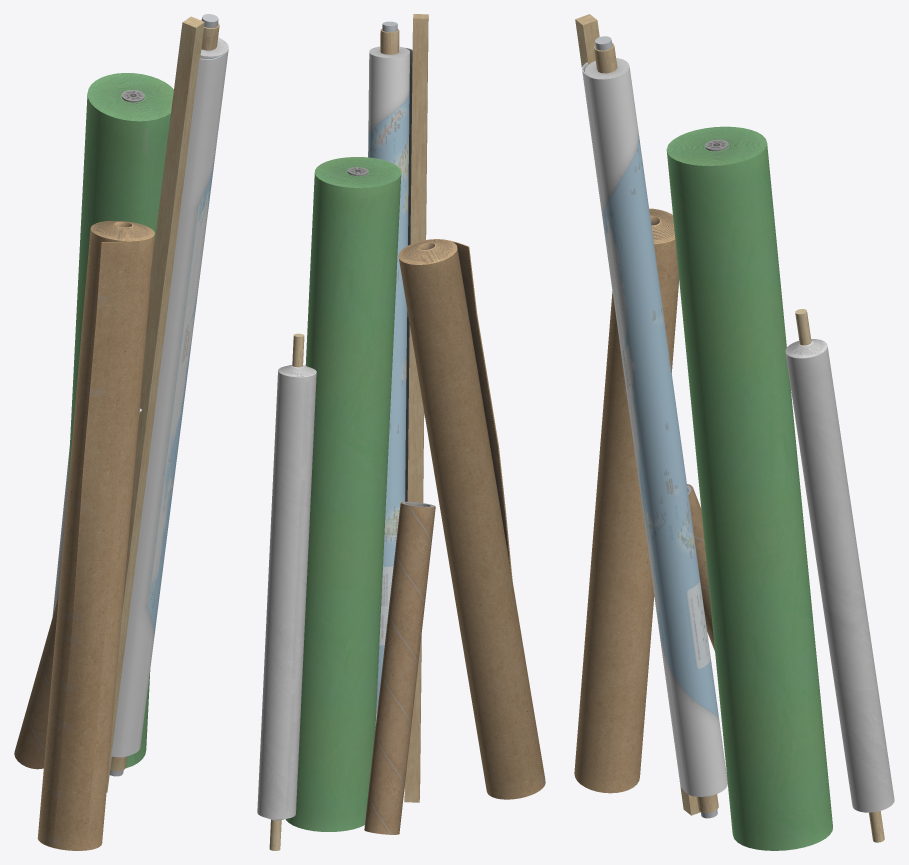
File: SM_Paper_Rolls_01a.fbx
3 views of the same model, side by side, from view 1: azimuth 30°, elevation 25°; view 2: azimuth 150°, elevation 25°; view 3: azimuth 270°, elevation 25° (orthographic). The views are drawn at different scales.
Parts seen in each view (by area): view 1: SM_Paper_Rolls_01a_LOD0; view 2: SM_Paper_Rolls_01a_LOD0; view 3: SM_Paper_Rolls_01a_LOD0.
Boxes of the visible parts, x1,y1,x2,y2 form: SM_Paper_Rolls_01a_LOD0: [14, 14, 228, 850]; SM_Paper_Rolls_01a_LOD0: [257, 14, 545, 850]; SM_Paper_Rolls_01a_LOD0: [574, 14, 894, 850].
Bounding box in the file's own units: 42.38 × 62.63 × 177.
